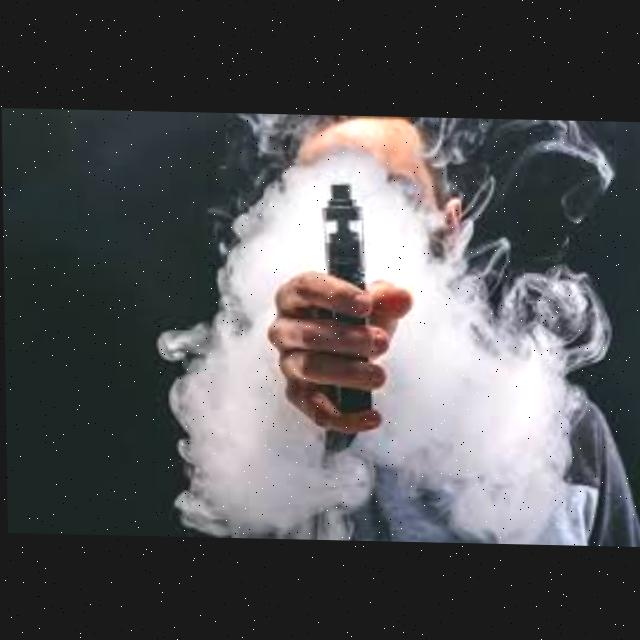vape: (321, 182, 369, 282)
